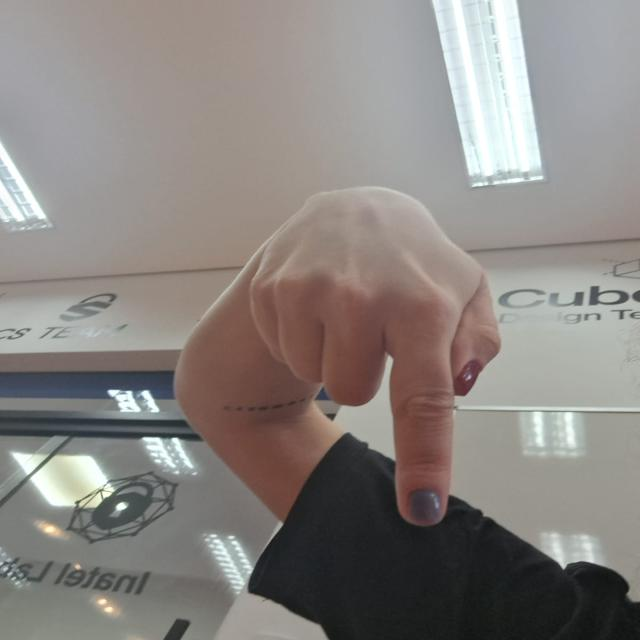Q: (248, 184, 509, 534)
